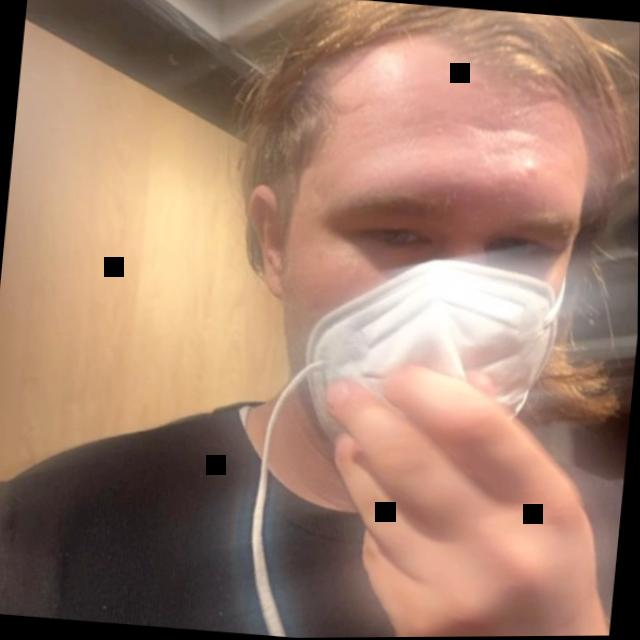Mask: (182, 0, 592, 525)
